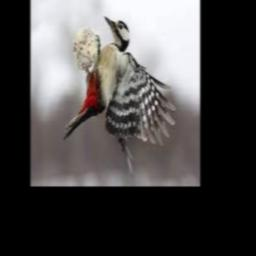Woodpecker: (63, 16, 176, 172)
